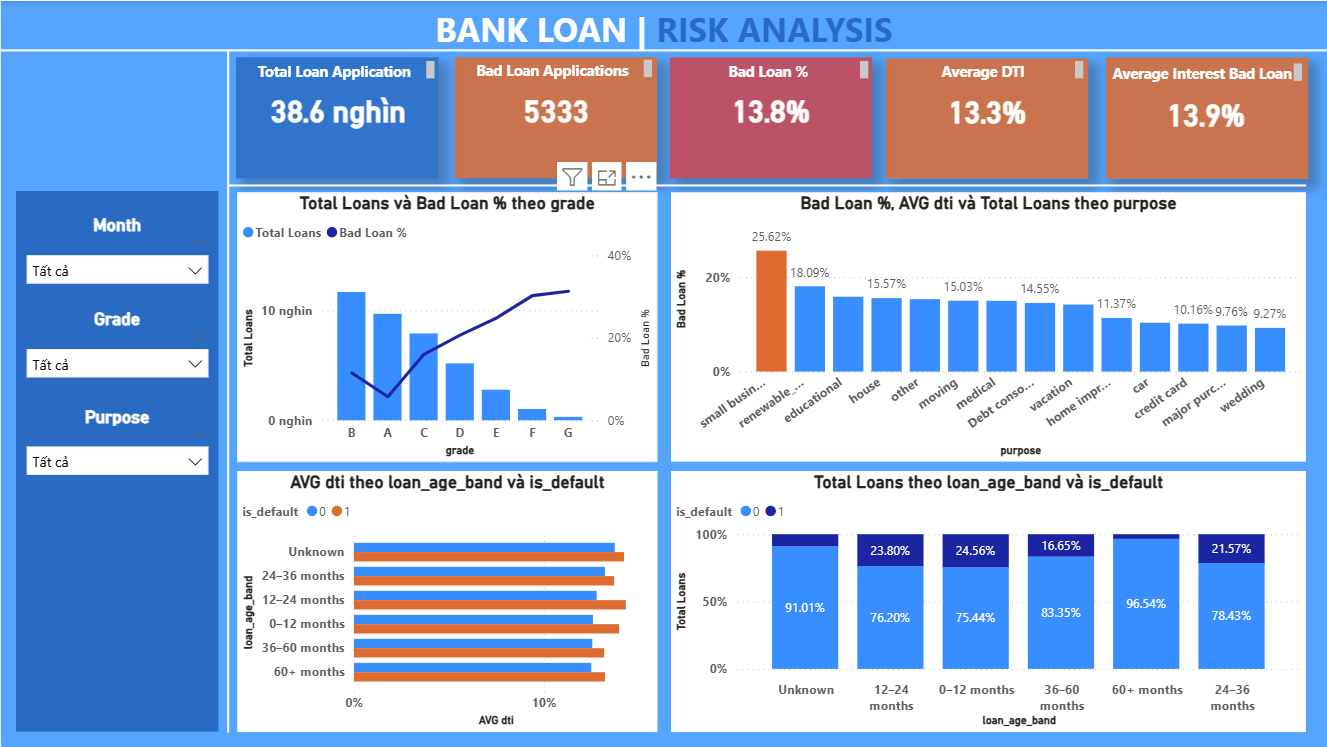

The page's visual inventory and layout, read from the dashboard file:
{"tool":"powerbi","page":{"name":"Risk Analysis","canvas":[1280,720],"ordinal":1},"visuals":[{"type":"textbox","box":[0,0,1280,86.9],"z":0},{"type":"shape","box":[0,39.8,1280,15.7],"z":1000},{"type":"shape","box":[227,54.4,195.4,117],"z":2000},{"type":"card","fields":{"Values":["Measure.Total Loans"]},"box":[227.5,80,195.4,50.7],"z":3000},{"type":"textbox","box":[227.5,53.5,195.4,31.4],"z":4000},{"type":"shape","box":[437.4,54.7,195.4,117],"z":5000},{"type":"card","fields":{"Values":["Measure.Bad Loans"]},"box":[437.4,80,195.4,50.7],"z":6000},{"type":"textbox","box":[437.4,52.2,195.4,32.6],"z":7000},{"type":"shape","box":[645.6,54.4,195.4,117],"z":8000},{"type":"card","fields":{"Values":["Measure.Bad Loan %"]},"box":[645.6,79.8,195.4,50.7],"z":9000},{"type":"textbox","box":[646.2,53.6,195.4,32.6],"z":10000},{"type":"shape","box":[854.4,55.3,195.4,115.9],"z":11000},{"type":"card","fields":{"Values":["Measure.AVG dti"]},"box":[854.7,81.3,195.4,50.7],"z":12000},{"type":"textbox","box":[854.7,53.6,195.4,32.6],"z":13000},{"type":"shape","box":[1066,53.9,195.4,117.2],"z":14000},{"type":"card","fields":{"Values":["Calendar.Average Interest BadLoan"]},"box":[1065.2,82.7,195.4,50.7],"z":15000},{"type":"textbox","box":[1065.2,54.9,195.4,32.6],"z":16000},{"type":"shape","box":[219.7,171.2,1040.4,13.5],"z":17000},{"type":"shape","box":[14.8,183.3,195.4,521.5],"z":18000},{"type":"shape","box":[211.6,47.2,16.2,659],"z":19000},{"type":"lineStackedColumnComboChart","fields":{"Category":["financial_loan.grade"],"Y":["Measure.Total Loans"],"Y2":["Measure.Bad Loan %"]},"box":[227.8,184.6,405.6,260.1],"z":20000},{"type":"clusteredColumnChart","fields":{"Category":["financial_loan.purpose"],"Y":["Measure.Bad Loan %"]},"box":[646.9,184.6,613.2,260.1],"z":21000},{"type":"clusteredBarChart","fields":{"Category":["financial_loan.loan_age_band"],"Y":["Measure.AVG dti"],"Series":["financial_loan.is_default"]},"box":[227.8,454.2,405.6,252],"z":22000},{"type":"hundredPercentStackedColumnChart","fields":{"Category":["financial_loan.loan_age_band"],"Y":["Measure.Total Loans"],"Series":["financial_loan.is_default"]},"box":[647,454,613,252],"z":23000},{"type":"slicer","title":"Grade","fields":{"Values":["financial_loan.home_ownership"]},"box":[14.8,296.5,195.4,80.9],"z":24000},{"type":"slicer","title":"Purpose","fields":{"Values":["financial_loan.purpose"]},"box":[14.8,390.8,195.4,80.9],"z":25000},{"type":"slicer","title":"Month","fields":{"Values":["Calendar.Month"]},"box":[14.8,206.2,195.4,80.9],"z":26000}]}

Visuals, with their boxes in screenshot pixels (x1, y1, x2, y2), scaled from the page's 1280x720 canvas onto the 1327x747 screenshot:
textbox: (left=0, top=0, right=1326, bottom=90)
shape: (left=0, top=41, right=1326, bottom=58)
shape: (left=235, top=56, right=438, bottom=178)
card - Measure.Total Loans: (left=236, top=83, right=438, bottom=136)
textbox: (left=236, top=56, right=438, bottom=88)
shape: (left=453, top=57, right=656, bottom=178)
card - Measure.Bad Loans: (left=453, top=83, right=656, bottom=136)
textbox: (left=453, top=54, right=656, bottom=88)
shape: (left=669, top=56, right=872, bottom=178)
card - Measure.Bad Loan %: (left=669, top=83, right=872, bottom=135)
textbox: (left=670, top=56, right=873, bottom=89)
shape: (left=886, top=57, right=1088, bottom=178)
card - Measure.AVG dti: (left=886, top=84, right=1089, bottom=137)
textbox: (left=886, top=56, right=1089, bottom=89)
shape: (left=1105, top=56, right=1308, bottom=178)
card - Calendar.Average Interest BadLoan: (left=1104, top=86, right=1307, bottom=138)
textbox: (left=1104, top=57, right=1307, bottom=91)
shape: (left=228, top=178, right=1306, bottom=192)
shape: (left=15, top=190, right=218, bottom=731)
shape: (left=219, top=49, right=236, bottom=733)
lineStackedColumnComboChart - financial_loan.grade x Measure.Total Loans: (left=236, top=192, right=657, bottom=461)
clusteredColumnChart - financial_loan.purpose x Measure.Bad Loan %: (left=671, top=192, right=1306, bottom=461)
clusteredBarChart - financial_loan.loan_age_band x Measure.AVG dti: (left=236, top=471, right=657, bottom=733)
hundredPercentStackedColumnChart - financial_loan.loan_age_band x Measure.Total Loans: (left=671, top=471, right=1306, bottom=732)
"Grade" slicer: (left=15, top=308, right=218, bottom=392)
"Purpose" slicer: (left=15, top=405, right=218, bottom=489)
"Month" slicer: (left=15, top=214, right=218, bottom=298)
